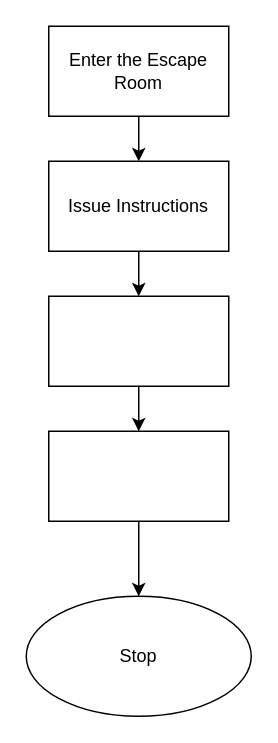
Image size: 278x743. Some labels were removed from this diagram. Here are the shapes that lost their labels. From the top down, the centre of each, then its label:
point (138, 340): Click on door
point (138, 475): Escape
